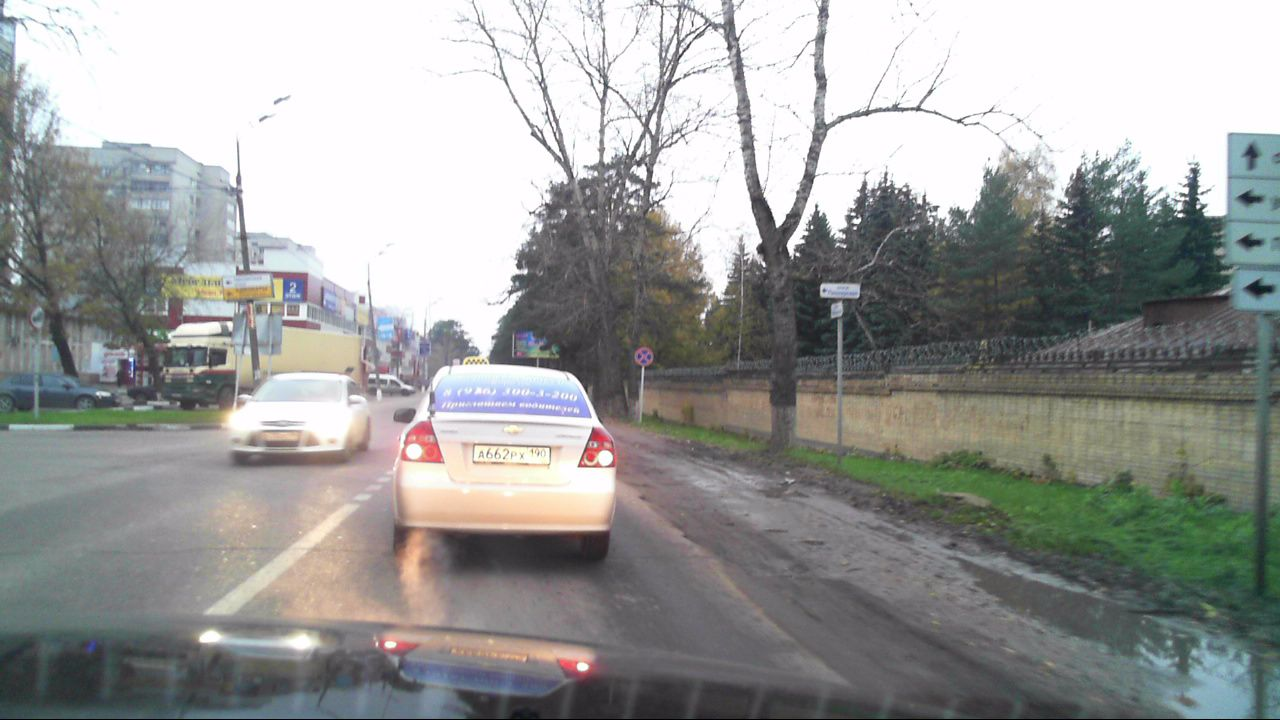No Parking: (633, 348, 652, 367)
